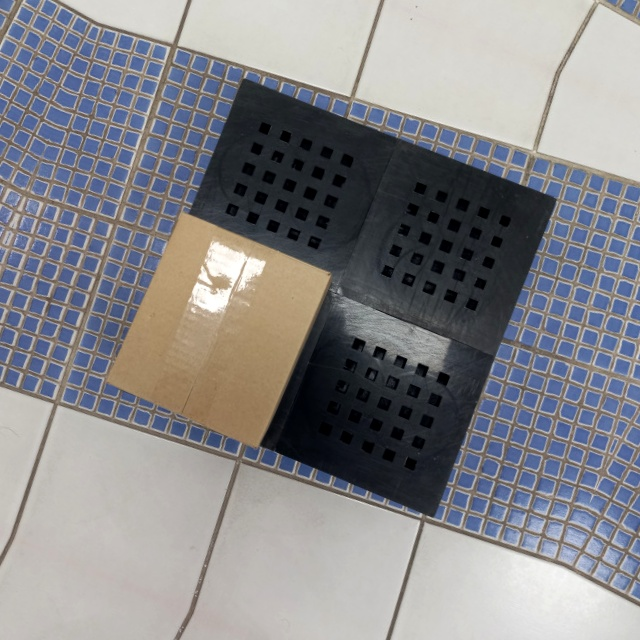box: (101, 207, 333, 452)
pallet: (111, 73, 562, 523)
